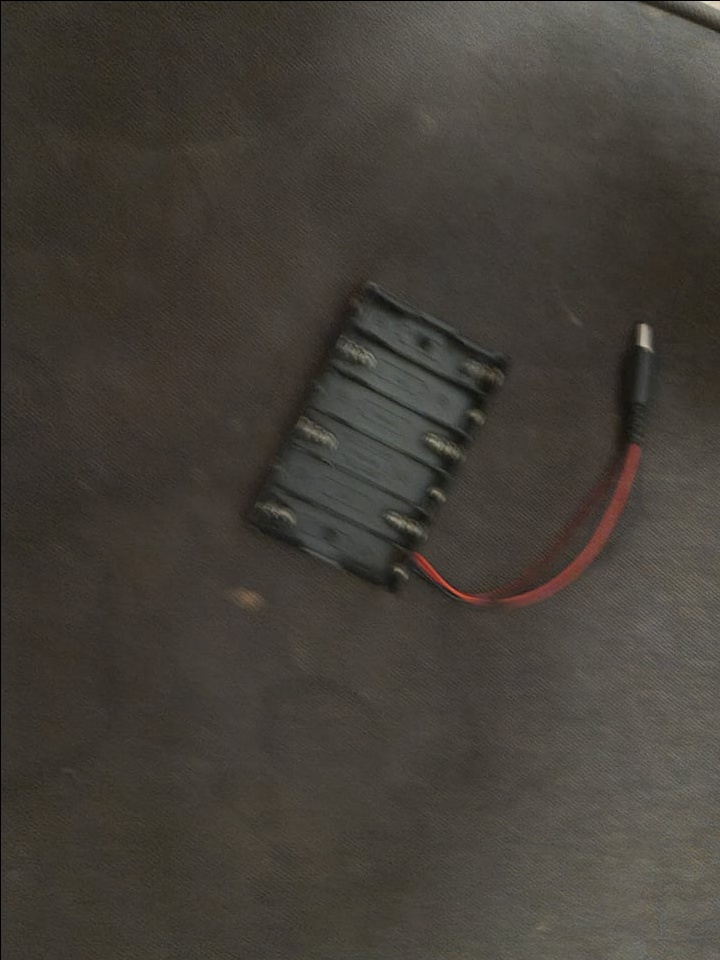BATTERY BOX: (267, 262, 495, 599)
